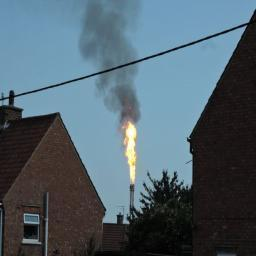fire: (124, 122, 137, 183)
smoke: (77, 2, 140, 98), (104, 84, 141, 136), (92, 0, 141, 28)
